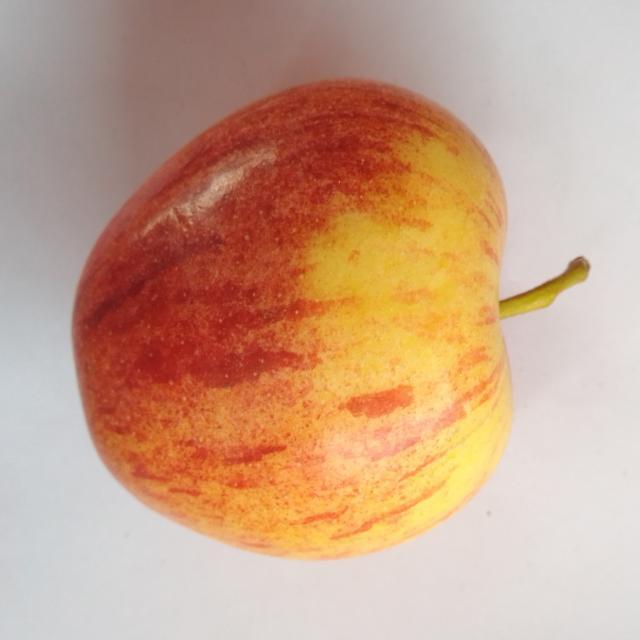Fresh Apple: (55, 75, 517, 542)
